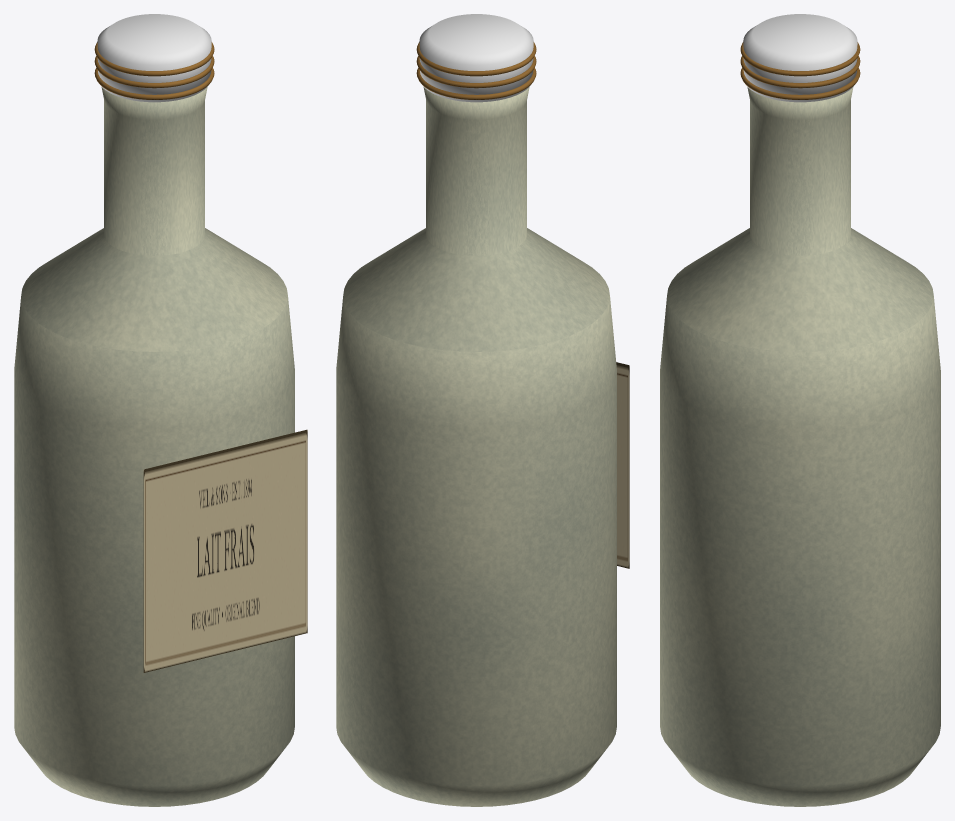
File: Milk.fbx
3 views of the same model, side by side, from view 1: azimuth 30°, elevation 25°; view 2: azimuth 150°, elevation 25°; view 3: azimuth 270°, elevation 25° (orthographic).
Visible parts, largest first — view 1: Milk_Enamel, Milk_Decals, Milk_Walnut, Milk_Brass; view 2: Milk_Enamel, Milk_Walnut, Milk_Decals, Milk_Brass; view 3: Milk_Enamel, Milk_Walnut, Milk_Brass.
Boxes of the visible parts, x1=… form: Milk_Enamel: x1=14, y1=87, x2=294, y2=806; Milk_Decals: x1=143, y1=429, x2=307, y2=672; Milk_Walnut: x1=97, y1=14, x2=211, y2=102; Milk_Brass: x1=94, y1=42, x2=214, y2=99; Milk_Enamel: x1=336, y1=87, x2=616, y2=806; Milk_Walnut: x1=419, y1=14, x2=533, y2=102; Milk_Decals: x1=616, y1=362, x2=629, y2=568; Milk_Brass: x1=416, y1=42, x2=536, y2=99; Milk_Enamel: x1=660, y1=87, x2=940, y2=806; Milk_Walnut: x1=743, y1=14, x2=857, y2=102; Milk_Brass: x1=740, y1=42, x2=860, y2=99.
Bounding box in the file's own units: 15 × 42.6 × 15.1.
